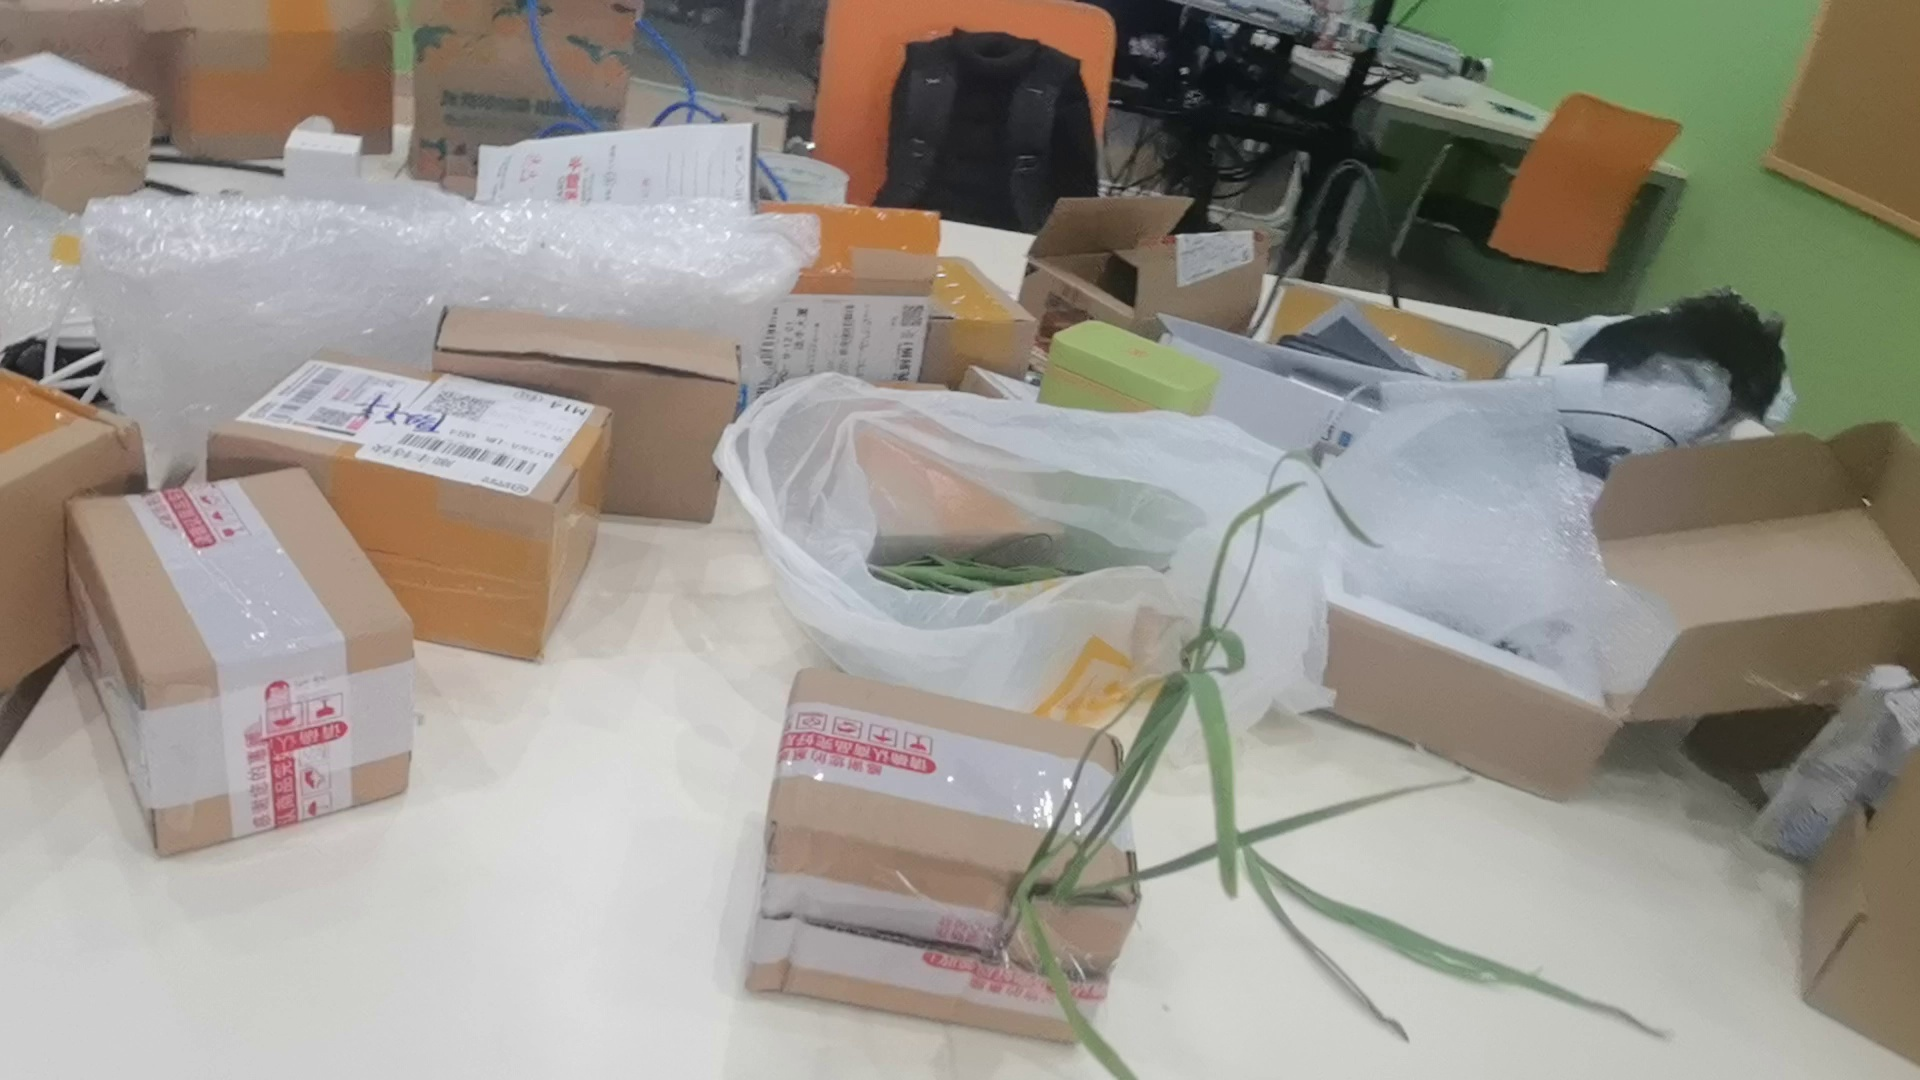chives: (986, 442, 1472, 1080), (1226, 814, 1669, 1040)
